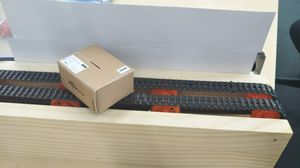box1: (55, 43, 134, 113)
